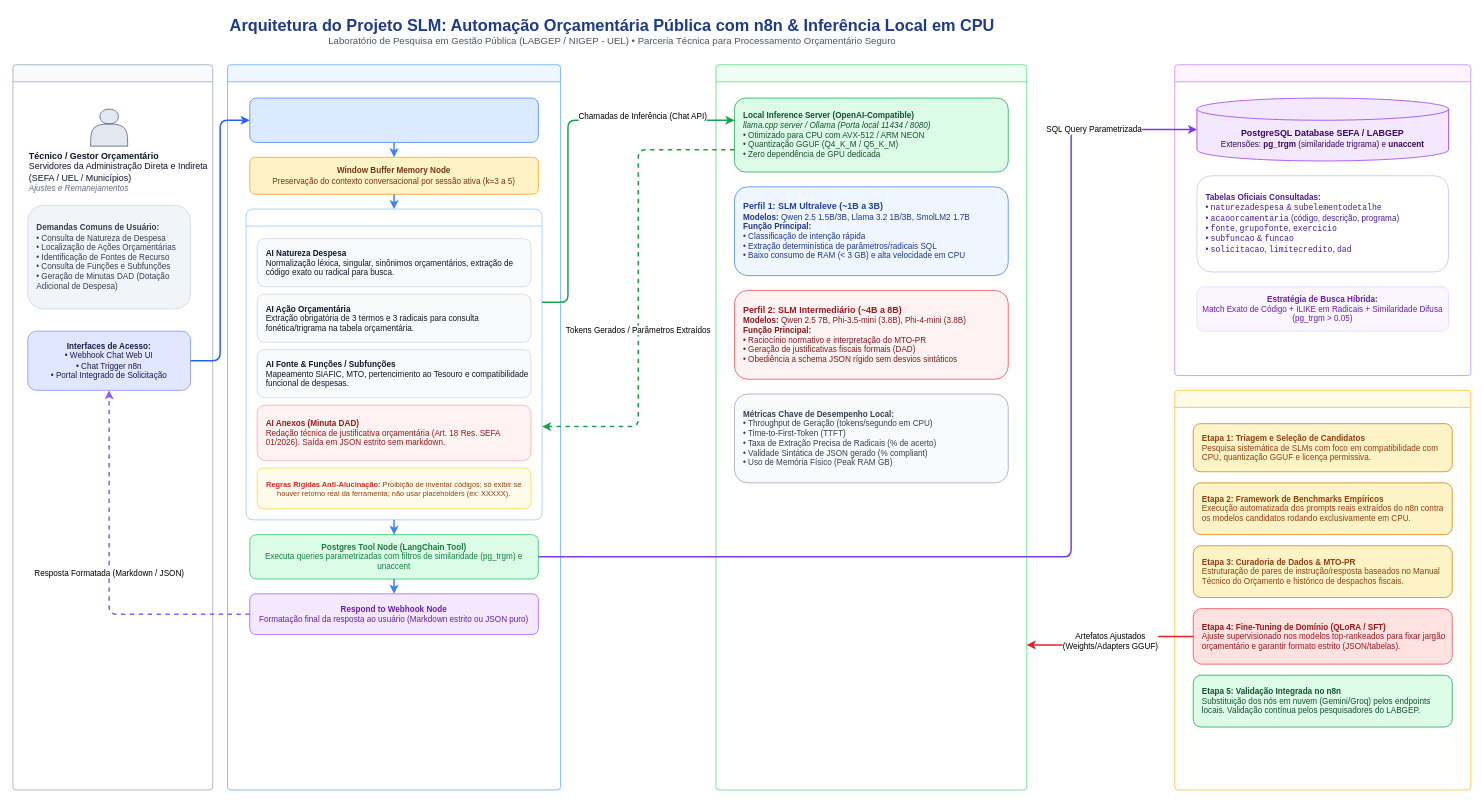
The diagram is 1484 pixels wide and 803 high, and some of its shapes have lost their labels. The shapes that lost their labels are listed below. From the top down, each one's box as (x1, y1, x2, y2) in pixels, then its label:
(249, 97, 538, 142): Webhook / Chat Trigger Node Recebimento de mensagens com Session ID tracking
(1174, 64, 1471, 376): 4. Camada de Dados Orçamentários (PostgreSQL)
(245, 208, 542, 520): Especialistas em Domínio (Sub-Agentes LangChain n8n)
(227, 64, 561, 790): 2. Orquestração & Agentes Inteligentes (n8n Engine)
(715, 64, 1027, 790): 3. Camada de Inferência Local em CPU (SLM Engine)
(1174, 390, 1471, 790): 5. Pipeline Metodológico: Pesquisa, Benchmarks & Fine-Tuning
